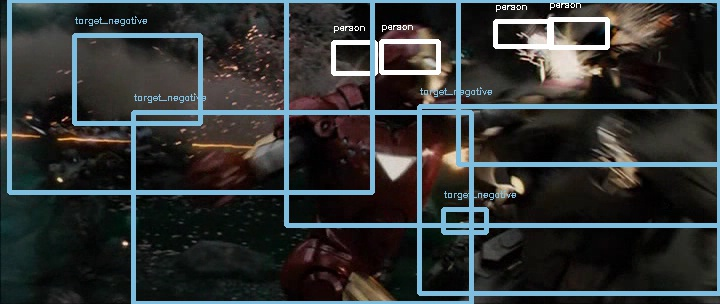person: (383, 25, 447, 105), (382, 25, 446, 105), (384, 25, 448, 105), (383, 24, 447, 104), (383, 26, 447, 106)
target_negative: (69, 50, 622, 177), (116, 16, 654, 118), (293, 145, 645, 198), (228, 148, 499, 212), (171, 217, 513, 227), (565, 178, 588, 214)
